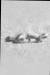N30: (4, 0, 46, 74)
